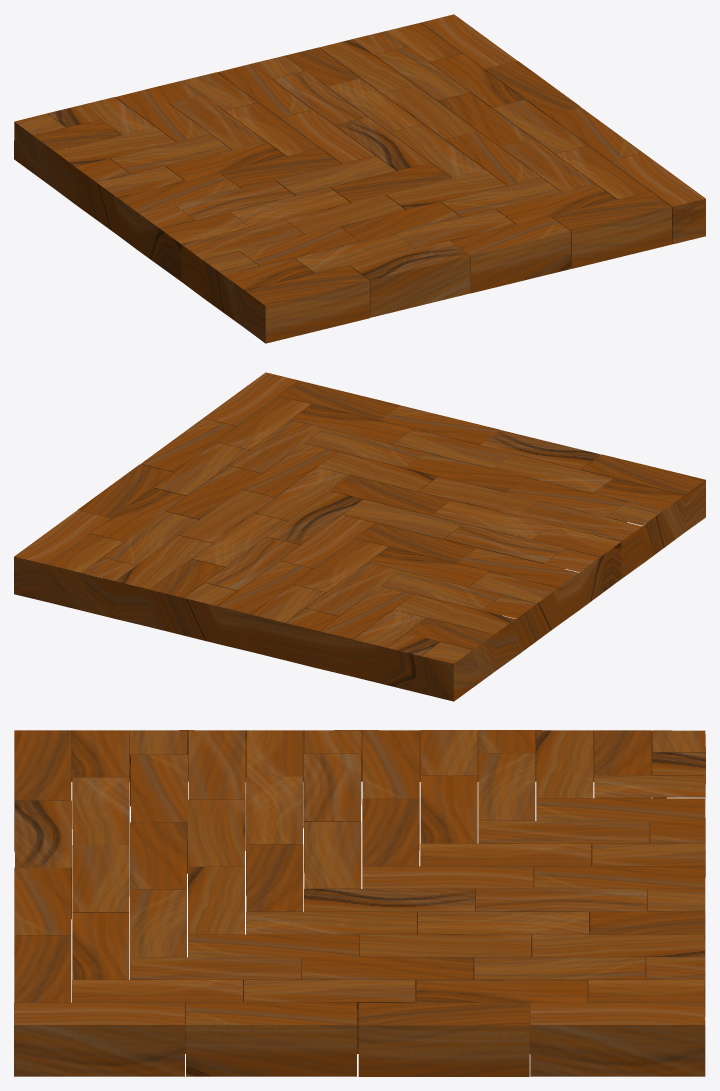
File: DiagonalSquare.glb
The picture shows the model from 3 angles, top to bottom: view 1: azimuth 30°, elevation 25°; view 2: azimuth 150°, elevation 25°; view 3: azimuth 270°, elevation 25°; orthographic projection. The views are drawn at different scales.
Visible parts, largest first — view 1: DiagonalSquare; view 2: DiagonalSquare; view 3: DiagonalSquare.
Part boxes in pixels (x1,y1,x2,y2): DiagonalSquare: (14,14,705,343); DiagonalSquare: (14,372,705,701); DiagonalSquare: (14,730,705,1076).
Size of the model in its own units: 4.9 by 0.4 by 4.86.
Materials: 1 (1 with a texture image).
